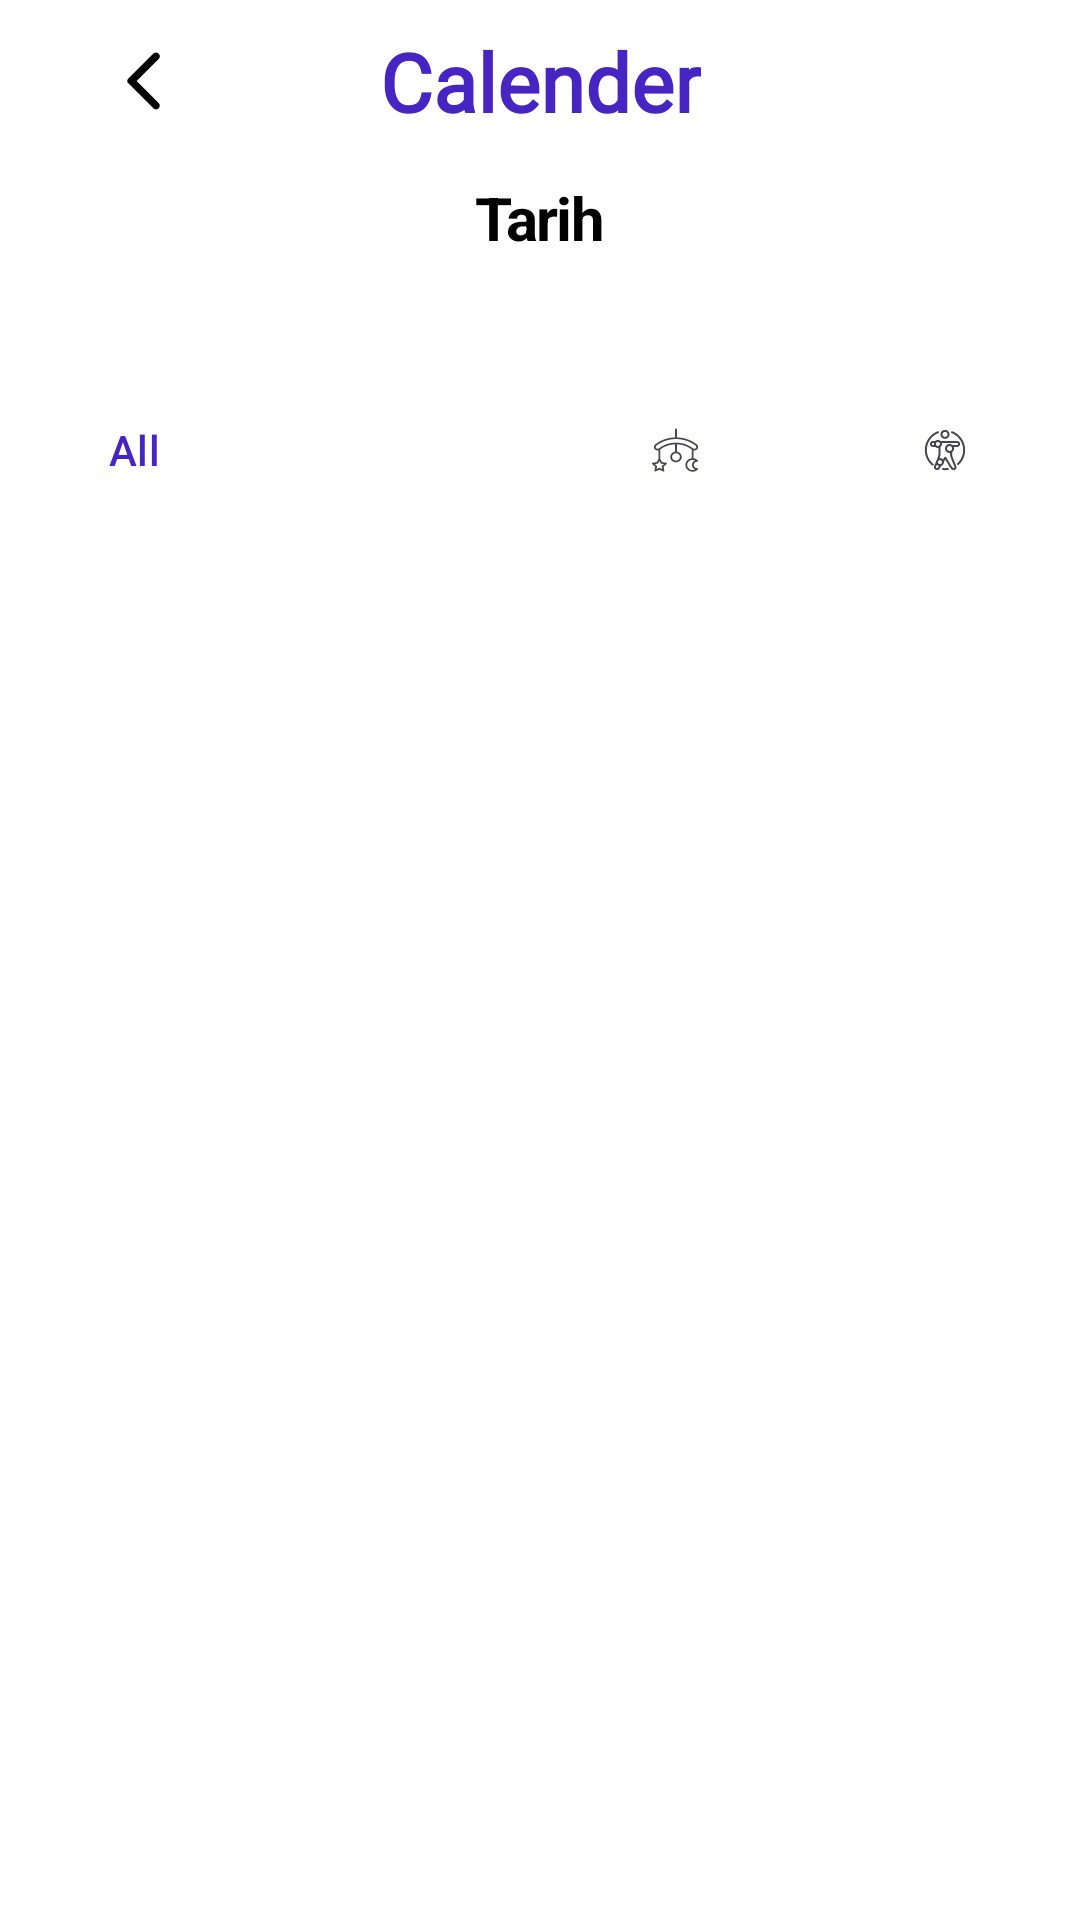

Named icons in this screenshot (1080x1920) and their bounding boxes, box(x1, y1, x2, y2):
back: box(127, 52, 160, 110)
